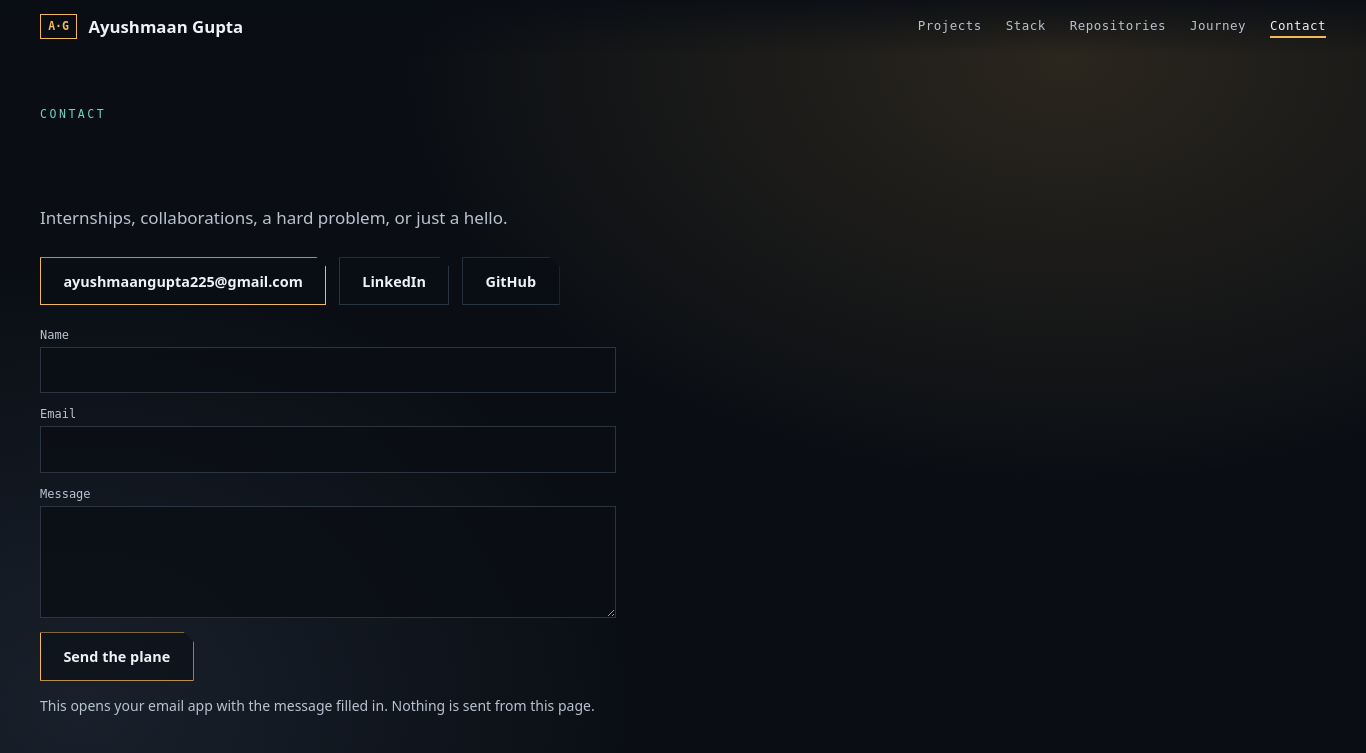
it: the pages › contact: validates, and says honestly that nothing is sent from the page
The image size is (1366, 753).
Expected: the text "Nothing is sent from this page" is shown, [40, 696, 595, 715]
What coordinates should you click on to do the following:
click the button "Send the plane"
I would click on:
 (117, 657)
Its box is [40, 632, 194, 681].
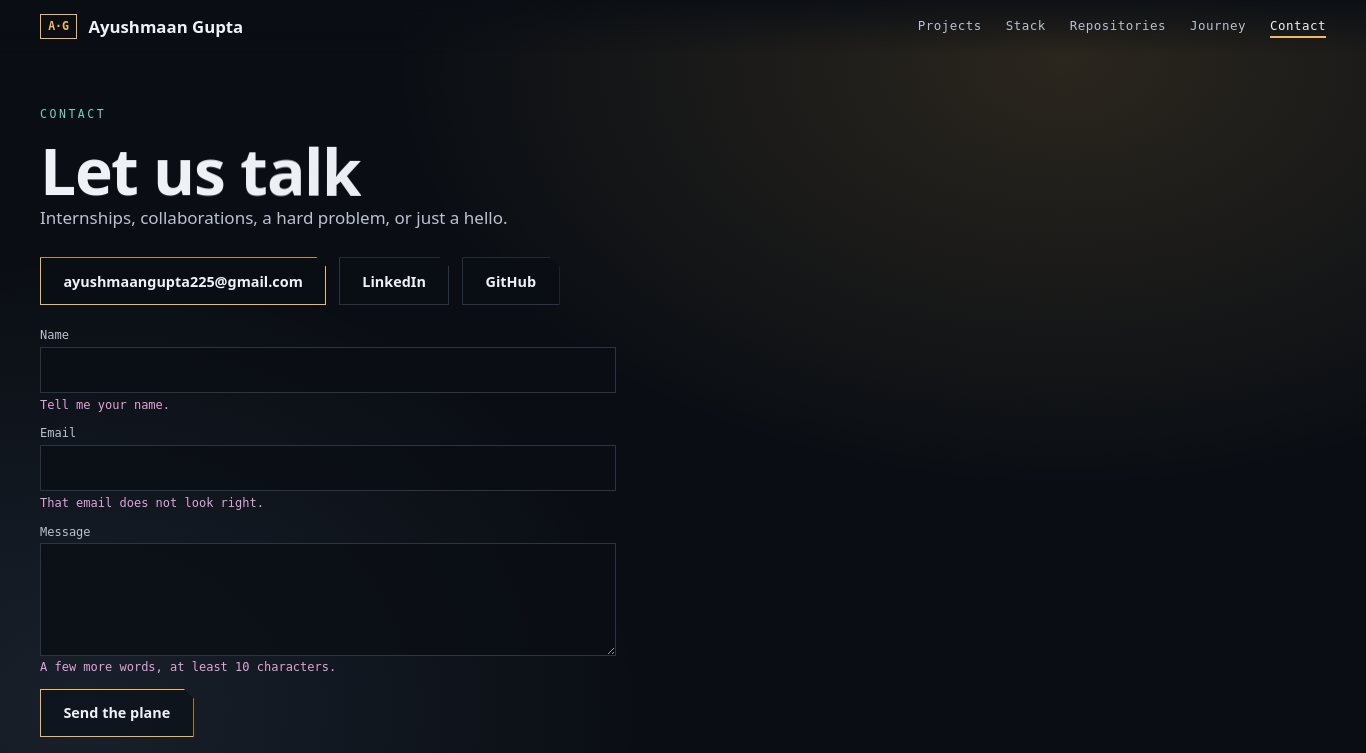
Result: the text "Tell me your name." is shown at [40, 398, 170, 412]
Result: the text "That email does not look right." is shown at [40, 496, 264, 510]
